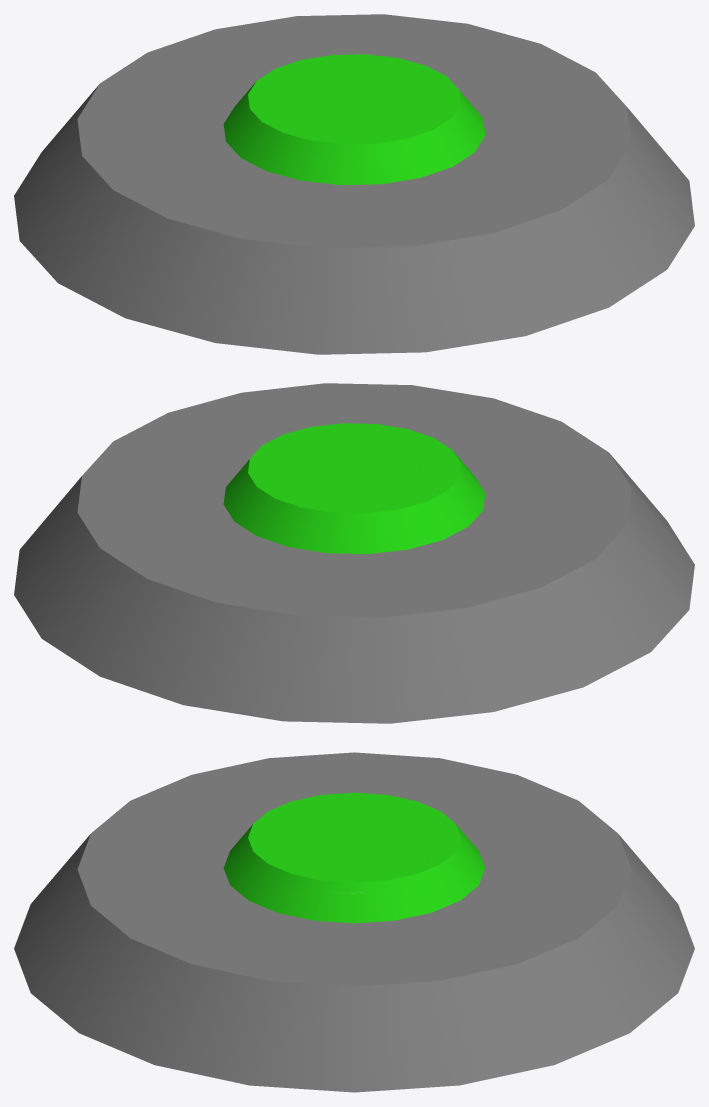
Rendered from Button.obj.
3 renders of one model, top to bottom at view 1: azimuth 30°, elevation 25°; view 2: azimuth 150°, elevation 25°; view 3: azimuth 270°, elevation 25°, orthographic.
Visible parts, largest first — view 1: pCylinder1, pCylinder2; view 2: pCylinder1, pCylinder2; view 3: pCylinder1, pCylinder2.
Boxes of the visible parts, x1,y1,x2,y2 form: pCylinder1: [14, 14, 694, 354]; pCylinder2: [223, 54, 485, 184]; pCylinder1: [14, 383, 694, 723]; pCylinder2: [223, 423, 485, 553]; pCylinder1: [14, 752, 694, 1092]; pCylinder2: [223, 792, 485, 923].
Bounding box in the file's own units: 2 × 0.3596 × 2.
2 materials, 1 textured.
